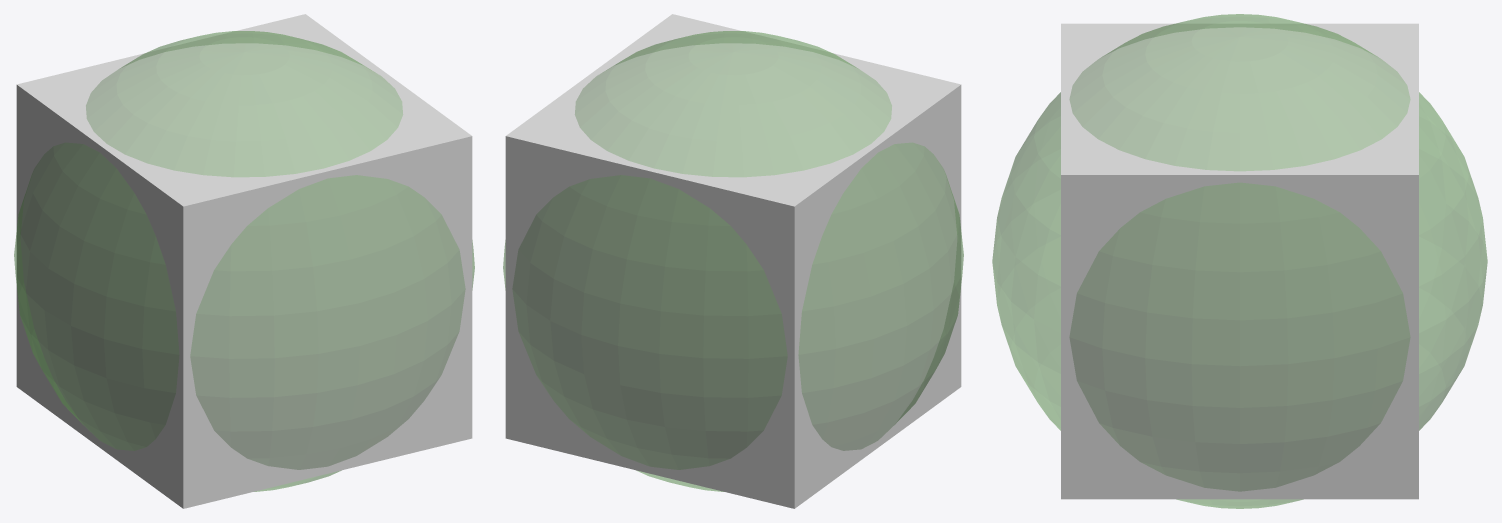
The model's file is transparency-test1.gltf.
3 views of the same model, side by side, from view 1: azimuth 30°, elevation 25°; view 2: azimuth 150°, elevation 25°; view 3: azimuth 270°, elevation 25° (orthographic). The views are drawn at different scales.
Visible parts, largest first — view 1: Cube, Sphere; view 2: Cube, Sphere; view 3: Cube, Sphere.
Part boxes in pixels (x1=…): Cube: x1=16, y1=14, x2=472, y2=508; Sphere: x1=14, y1=31, x2=474, y2=491; Cube: x1=505, y1=14, x2=961, y2=508; Sphere: x1=503, y1=31, x2=963, y2=491; Cube: x1=1061, y1=23, x2=1418, y2=499; Sphere: x1=992, y1=14, x2=1487, y2=508.
Size of the model in its own units: 13.59 by 13.59 by 13.59.
